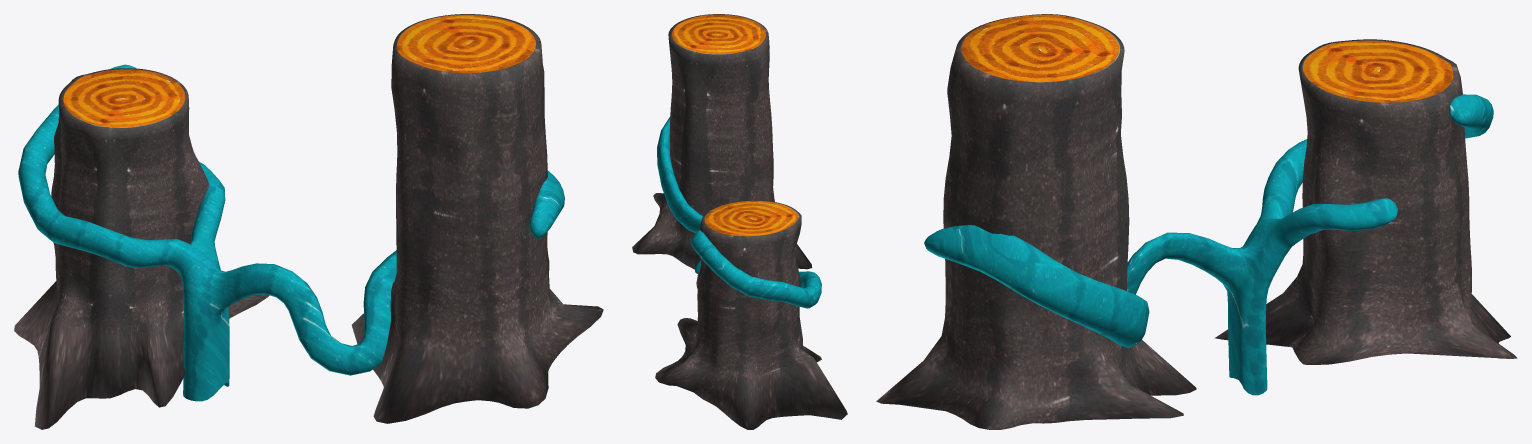
File: duo-arbres.fbx
The picture shows the model from 3 angles, left to right: view 1: azimuth 30°, elevation 25°; view 2: azimuth 150°, elevation 25°; view 3: azimuth 270°, elevation 25°; orthographic projection. The views are drawn at different scales.
Visible parts, largest first — view 1: Cylinder, Cylinder.001, Roundcube.003; view 2: Cylinder.001, Cylinder, Roundcube.003; view 3: Cylinder, Cylinder.001, Roundcube.003.
Boxes of the visible parts, x1,y1,x2,y2 form: Cylinder: (351,14,603,423); Cylinder.001: (14,68,269,429); Roundcube.003: (18,64,564,401); Cylinder.001: (655,200,847,429); Cylinder: (632,14,812,288); Roundcube.003: (657,116,821,308); Cylinder: (876,14,1196,429); Cylinder.001: (1214,39,1517,364); Roundcube.003: (924,94,1493,395).
Bounding box in the file's own units: 656 × 594 × 756.
3 materials, 3 textured.
